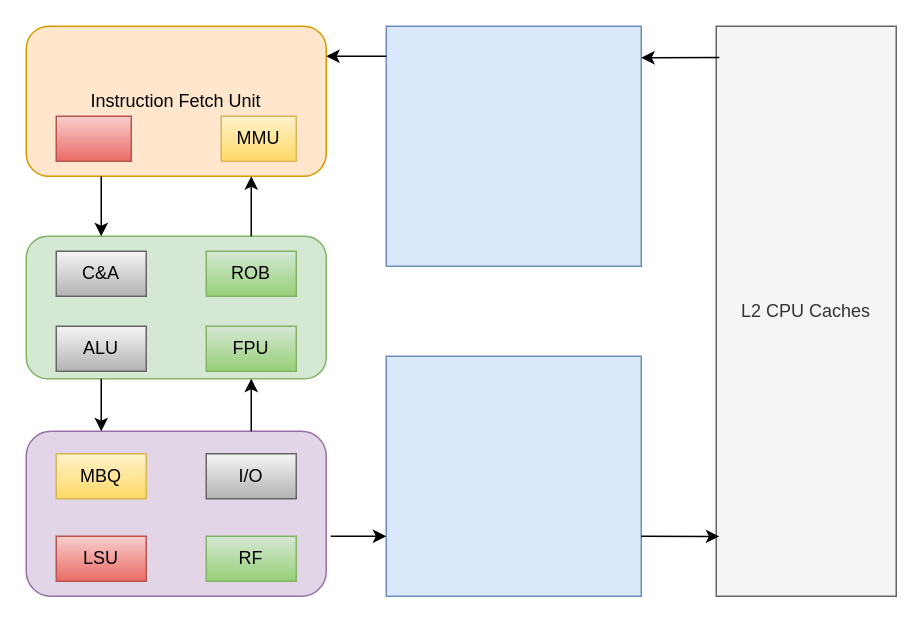
Image size: 923x623. Some labels were removed from this diagram. The shapes that lost their labels are listed below. From the top down, each one's box as (x1, y1, x2, y2) in pixels, then its label:
(55, 115, 131, 161): BPU
(385, 25, 641, 266): L1 Instruction Cache
(25, 235, 326, 379): Execution Unit
(385, 355, 641, 596): L1 Data Cache
(25, 430, 326, 596): Writeback Unit
